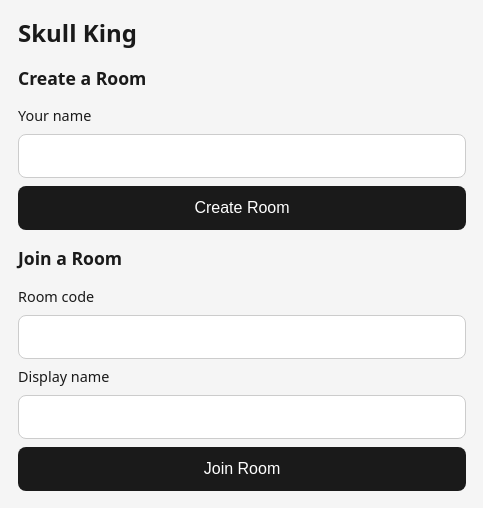
Test: App › live-updates the Lobby roster when the server broadcasts a new Room state
The image size is (483, 508).
Type "Alice" into the field labelled "Your name" at point(242, 156), box [18, 134, 466, 178]
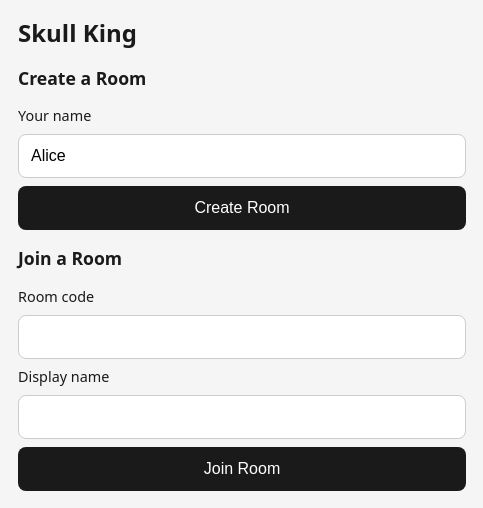
Click the button "Create Room" at point(242, 208), box [18, 186, 466, 230]
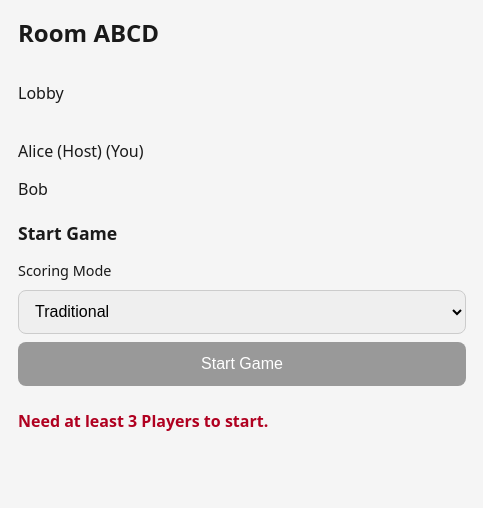
Expected: the text "ABCD" is shown, [93, 16, 159, 49]
Expected: the text "Bob" is shown, [18, 178, 48, 200]
